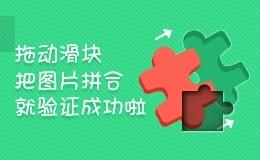target: (162, 71, 202, 111)
